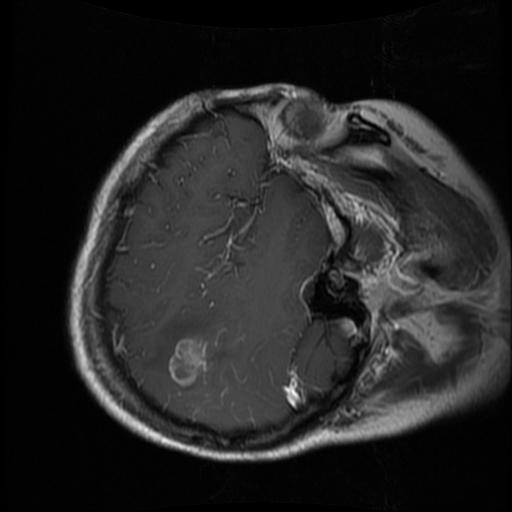glioma: (167, 335, 208, 389)
